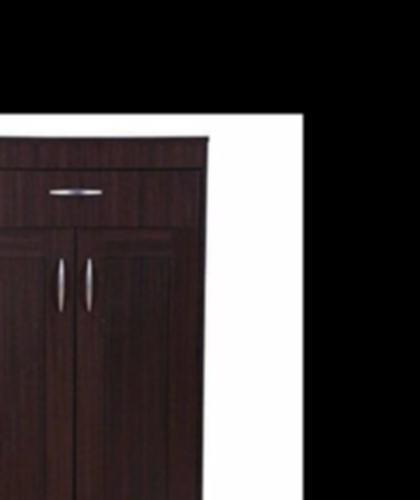Armario: (0, 131, 209, 500)
